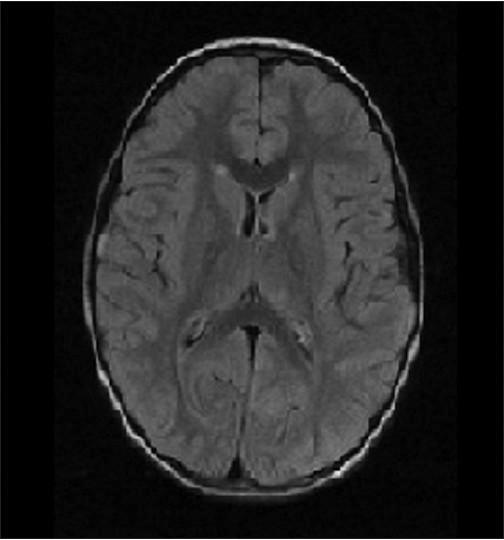Normal_Brain: (2, 1, 504, 540)
